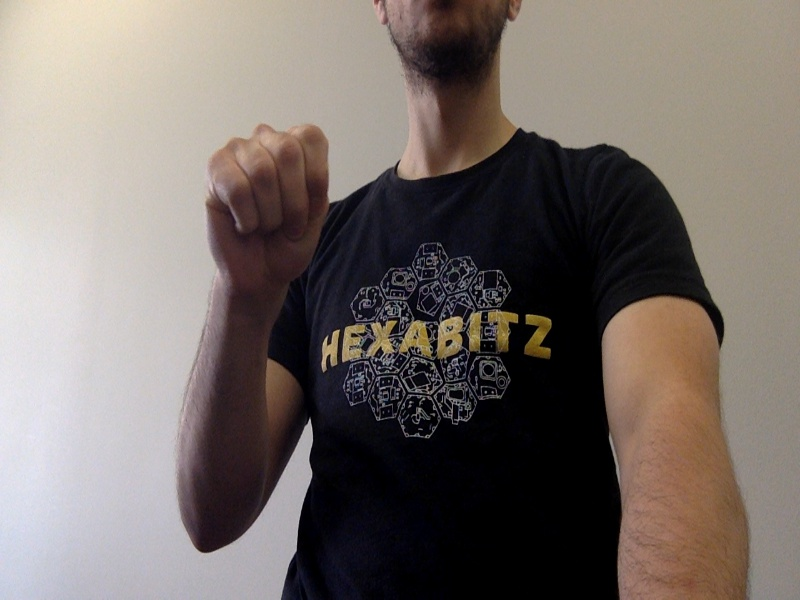0-hand: (204, 122, 329, 286)
